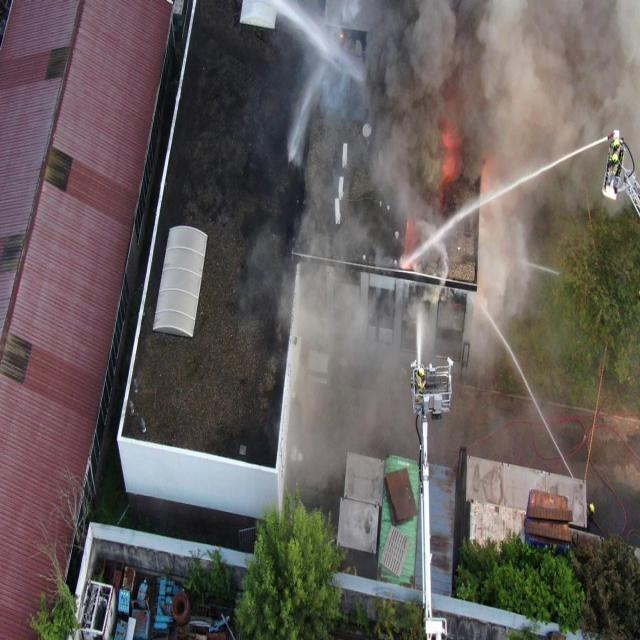Smoke: (245, 0, 640, 491)
